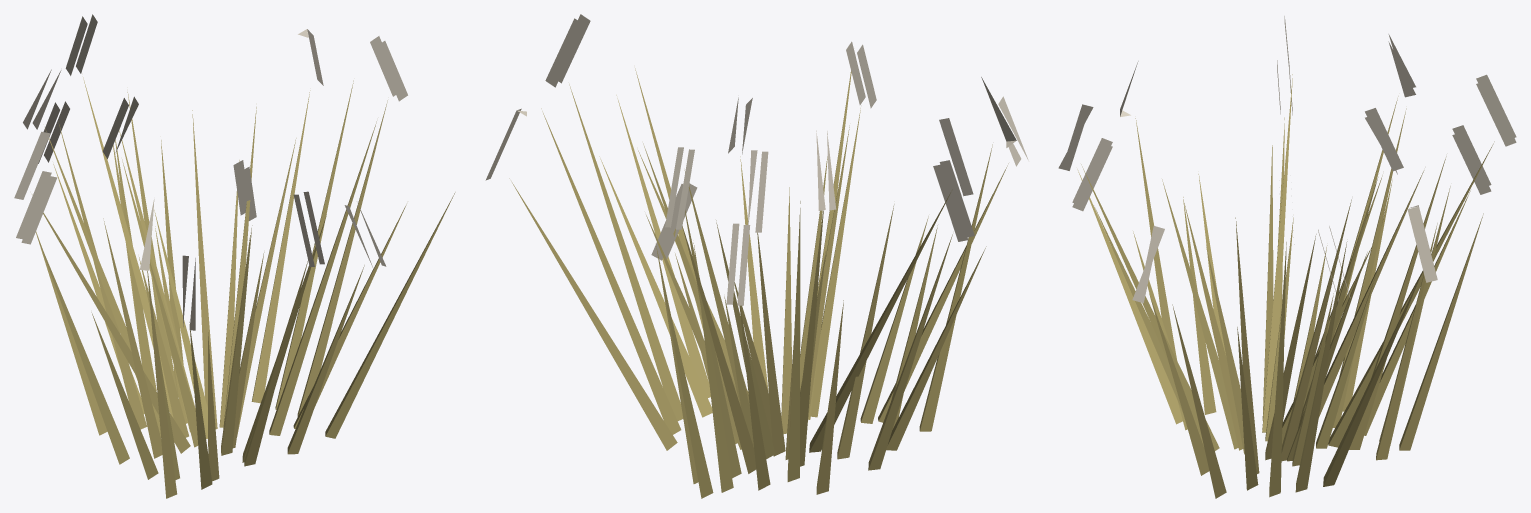
File: nature_silvergrass_b_lod1.glb
The picture shows the model from 3 angles, left to right: view 1: azimuth 30°, elevation 25°; view 2: azimuth 150°, elevation 25°; view 3: azimuth 270°, elevation 25°; orthographic projection. The views are drawn at different scales.
Visible parts, largest first — view 1: nature_silvergrass_b_lod1; view 2: nature_silvergrass_b_lod1; view 3: nature_silvergrass_b_lod1.
Boxes of the visible parts, x1,y1,x2,y2 form: nature_silvergrass_b_lod1: (14,14,455,498); nature_silvergrass_b_lod1: (485,14,1028,498); nature_silvergrass_b_lod1: (1058,16,1516,498).
Size of the model in its own units: 2.72 by 2.38 by 2.7.
